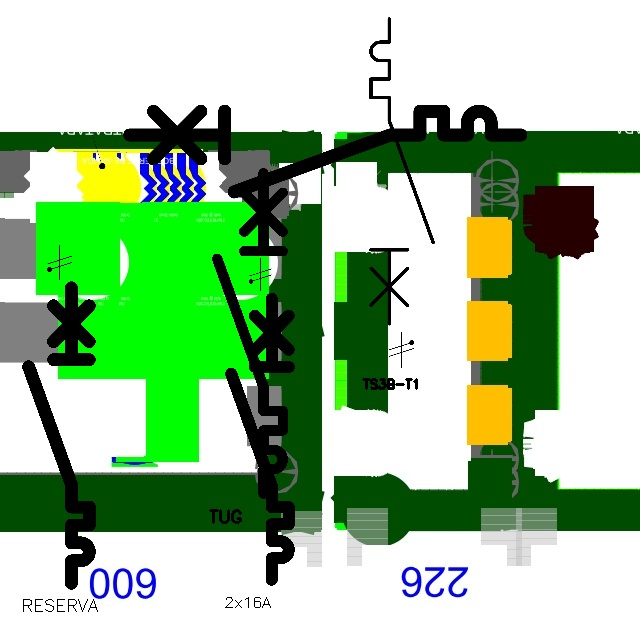interruptor_termomagnetico: (119, 101, 531, 202), (209, 165, 291, 502), (363, 11, 441, 332), (21, 280, 97, 591), (224, 291, 296, 586)
